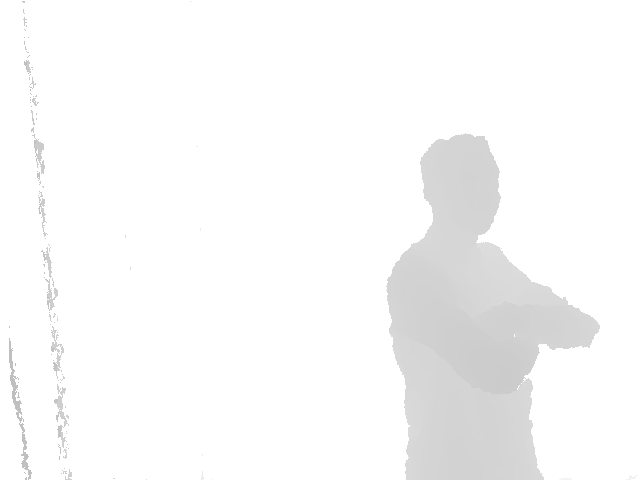head: (419, 134, 500, 238)
person: (385, 133, 602, 480)
